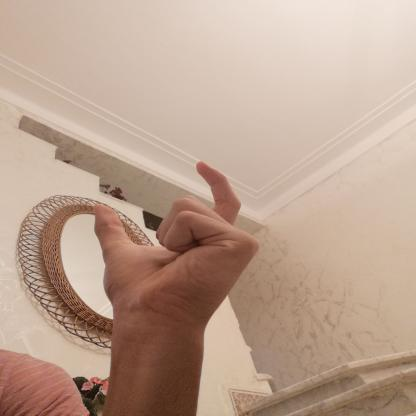NOON: (73, 150, 278, 346)
